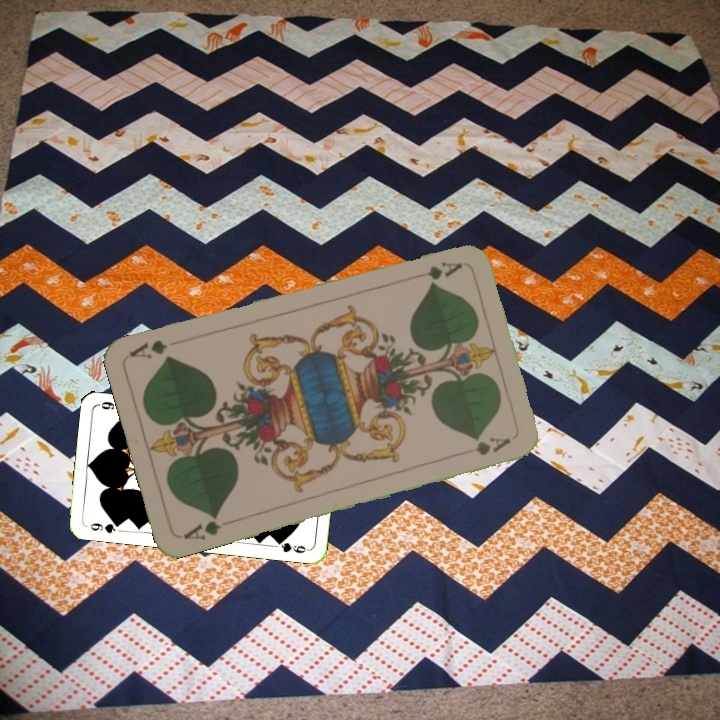G9: (86, 518, 124, 536)
GA: (179, 510, 236, 543), (407, 258, 465, 283)
